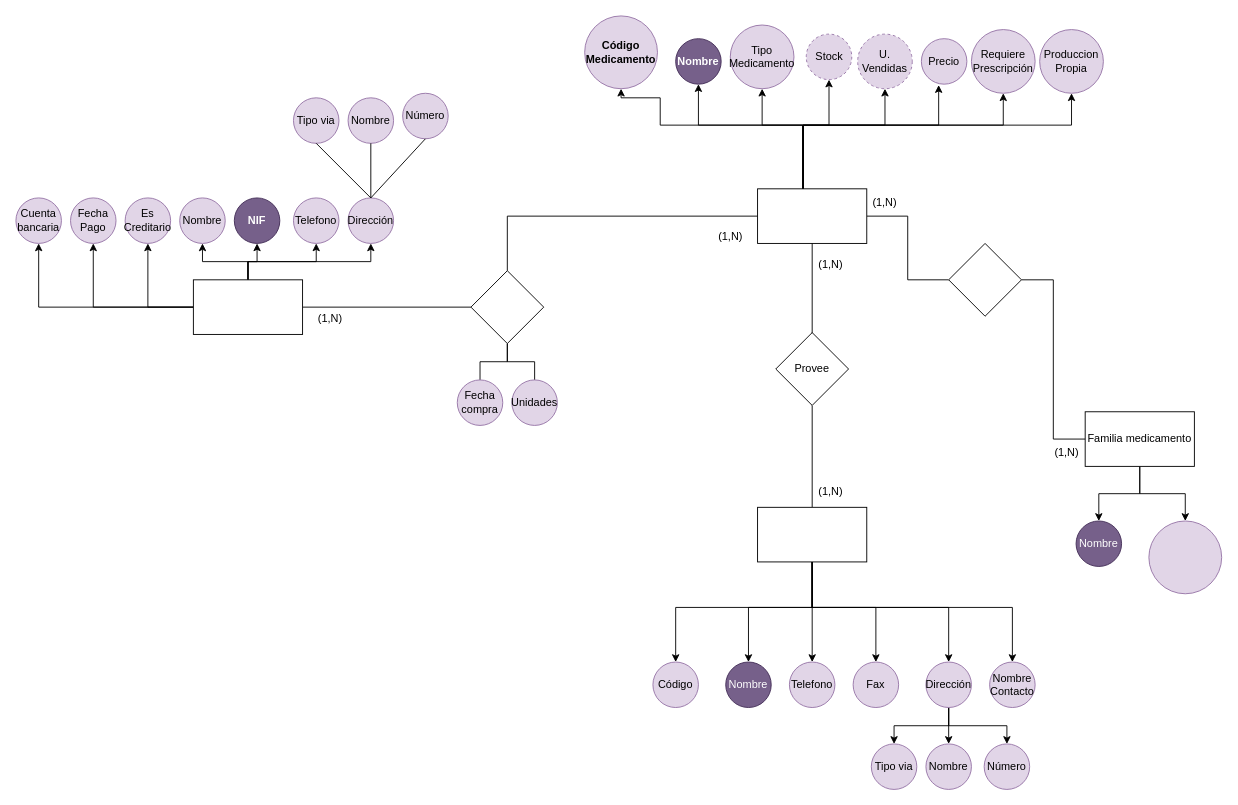
The diagram is 1238 pixels wide and 805 high, and some of its shapes have lost their labels. The shapes that lost their labels are listed below. From the top down, each one's centre as x and y in pixels, then its label:
At pixel 812 215: "Medicamentos".
At pixel 984 279: "Pertenece a".
At pixel 247 306: "Cliente".
At pixel 507 307: "Compra".
At pixel 812 534: "Laboratorio".
At pixel 1185 557: "Enfermedades".
